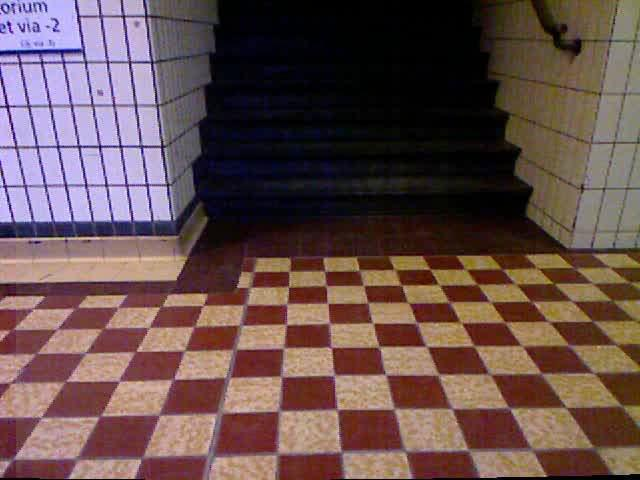Escaleras: (200, 0, 520, 222)
